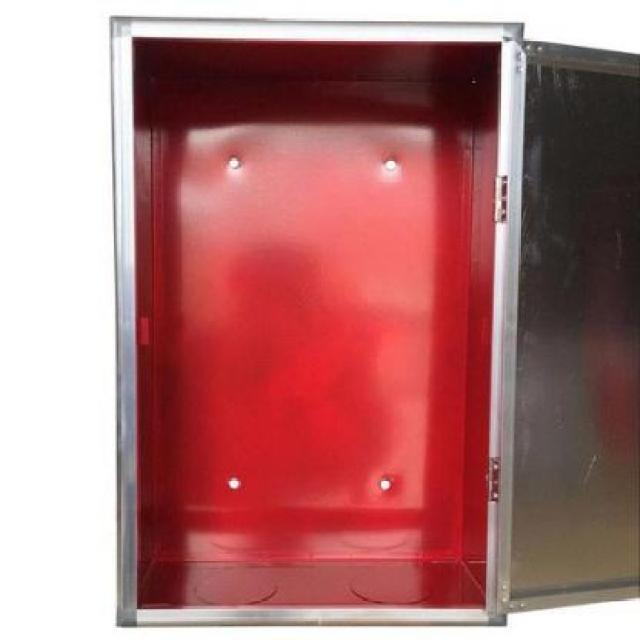firehydrant: (101, 11, 640, 634)
